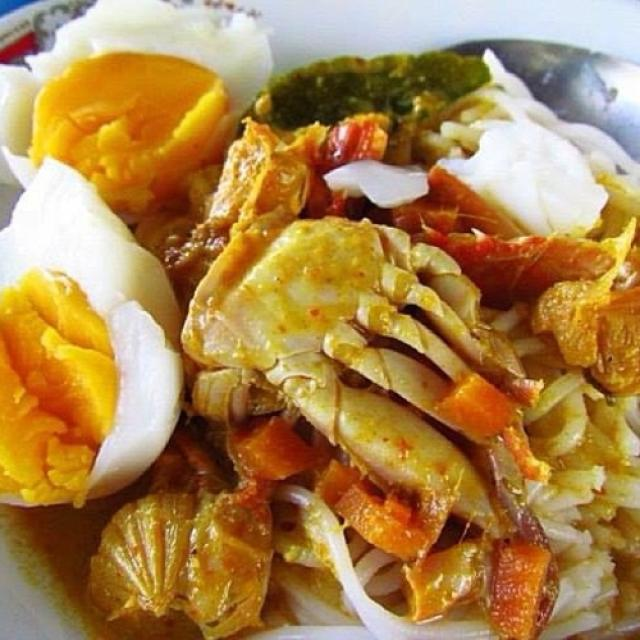面条主食: (12, 18, 616, 616)
